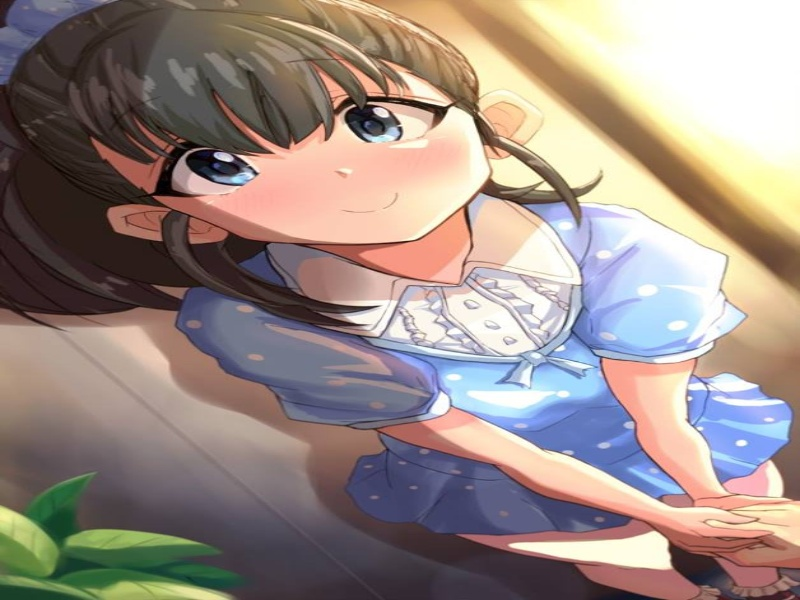dress: (200, 224, 790, 528)
person: (13, 8, 569, 274)
